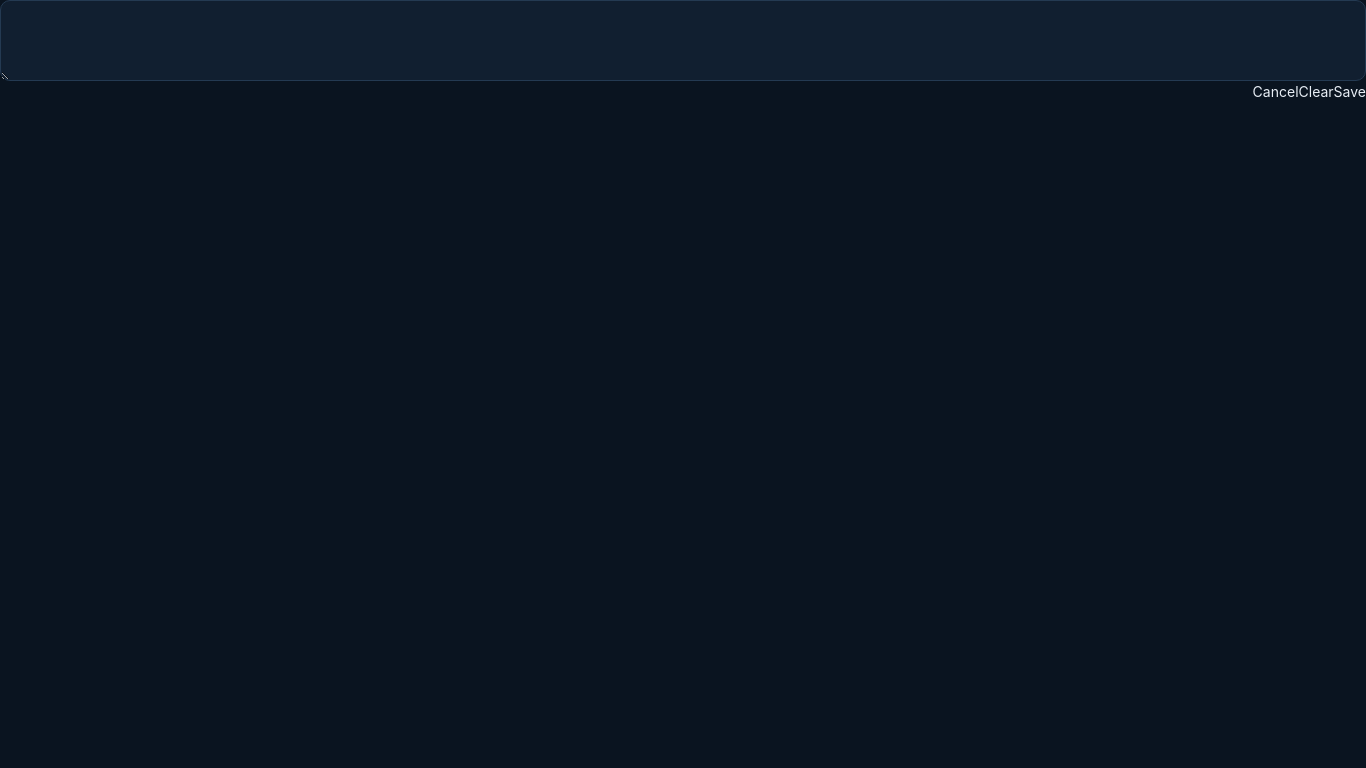
Test case: T051 — LineNotePopover save action › Save button is enabled after editing
Type "New note" into the text box at (683, 40), box [0,0,1365,81]
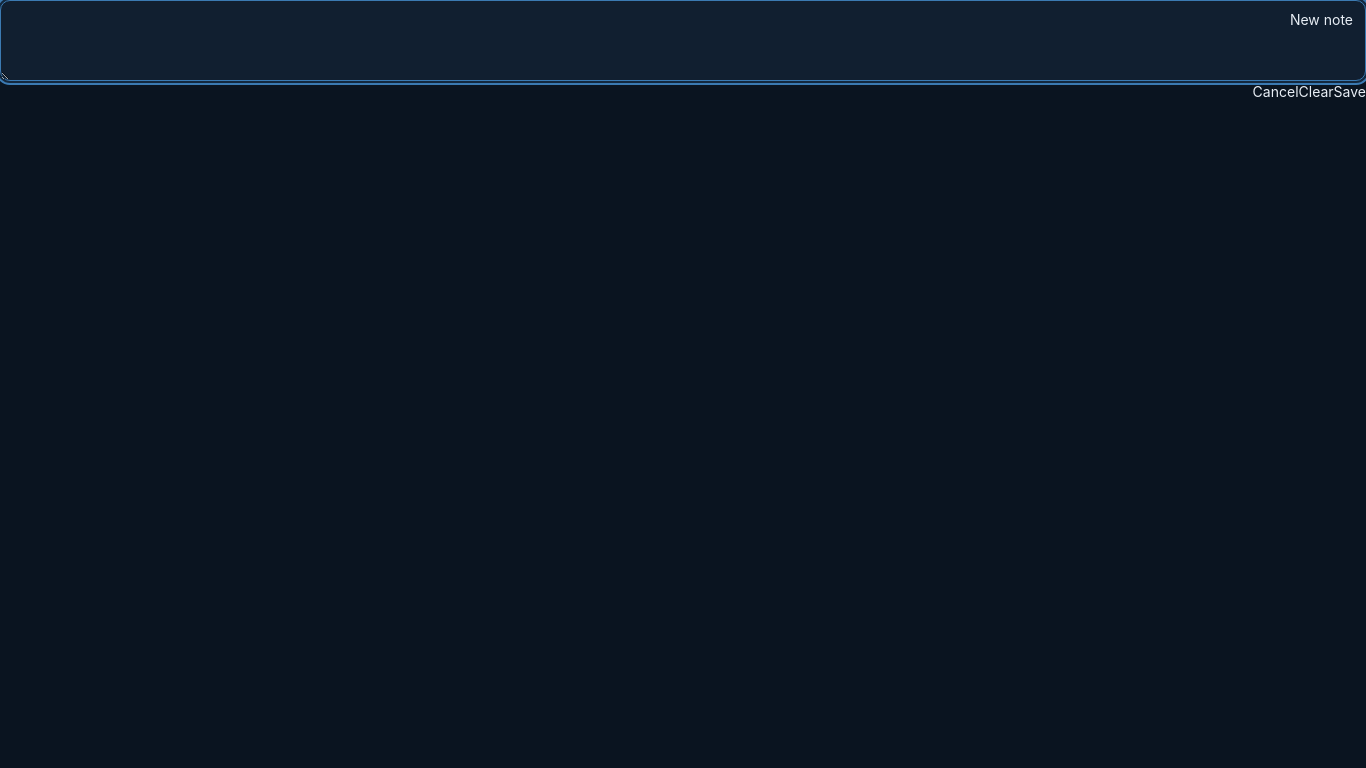
Expected: the button with test id "note-save-btn" is enabled, [1334,81,1365,102]
